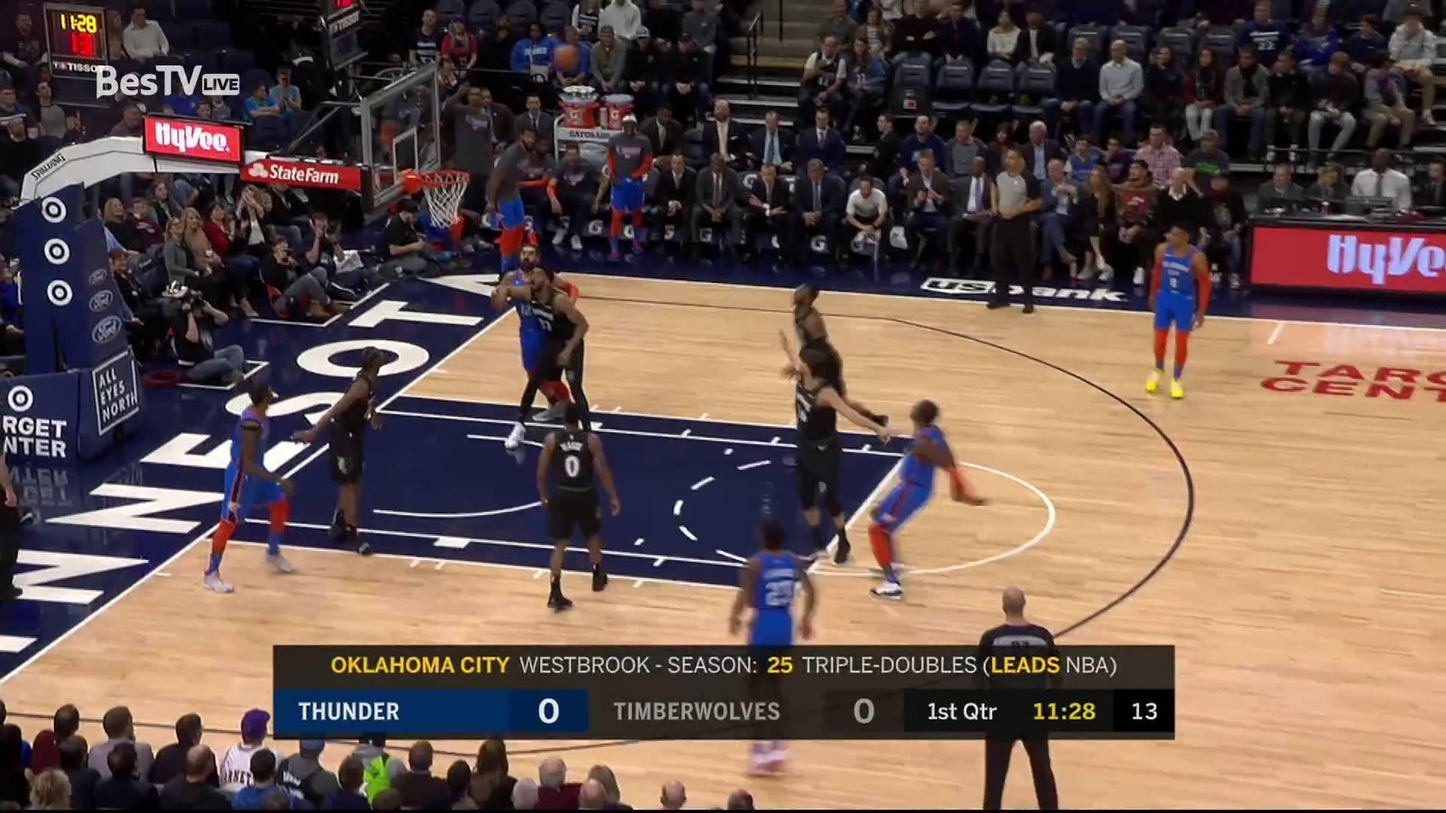basketball: (551, 43, 577, 72)
